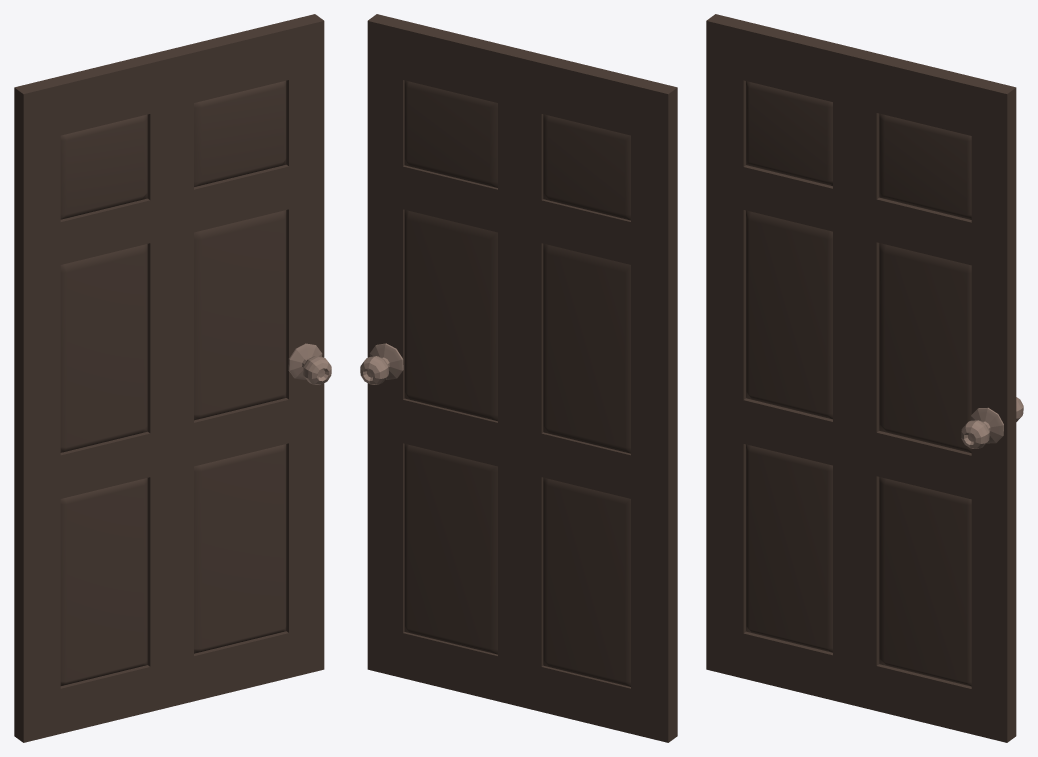
File: Door.fbx
3 views of the same model, side by side, from view 1: azimuth 30°, elevation 25°; view 2: azimuth 150°, elevation 25°; view 3: azimuth 330°, elevation 25° (orthographic).
Parts seen in each view (by area): view 1: polySurface3; view 2: polySurface3; view 3: polySurface3.
Boxes of the visible parts, x1,y1,x2,y2 form: polySurface3: (14,14,331,742); polySurface3: (360,14,677,742); polySurface3: (706,14,1023,742).
Size of the model in its own units: 7 by 14.41 by 1.82.
